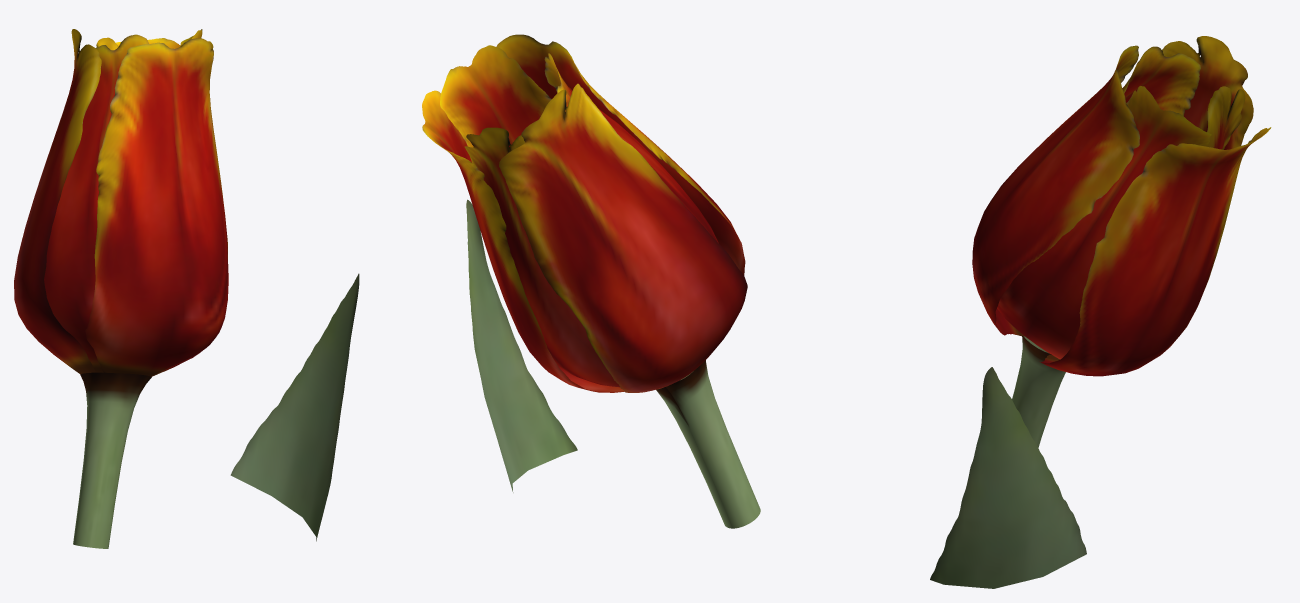
The picture shows the model from 3 angles, left to right: view 1: azimuth 30°, elevation 25°; view 2: azimuth 150°, elevation 25°; view 3: azimuth 270°, elevation 25°; orthographic projection. The views are drawn at different scales.
Parts seen in each view (by area): view 1: 7cddf395; view 2: 7cddf395; view 3: 7cddf395.
Part boxes in pixels (<box>): 7cddf395: <box>14,29,359,548</box>; 7cddf395: <box>422,34,760,528</box>; 7cddf395: <box>930,36,1271,588</box>.
Size of the model in its own units: 0.1668 by 0.2725 by 0.2177.
1 material, 1 textured.
